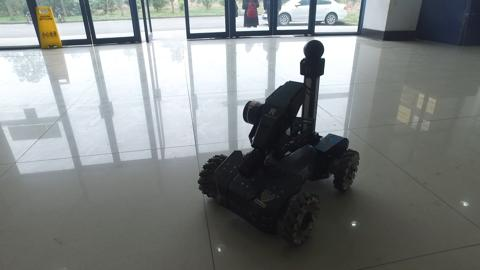car: (261, 1, 349, 26)
chariot: (196, 38, 361, 248)
